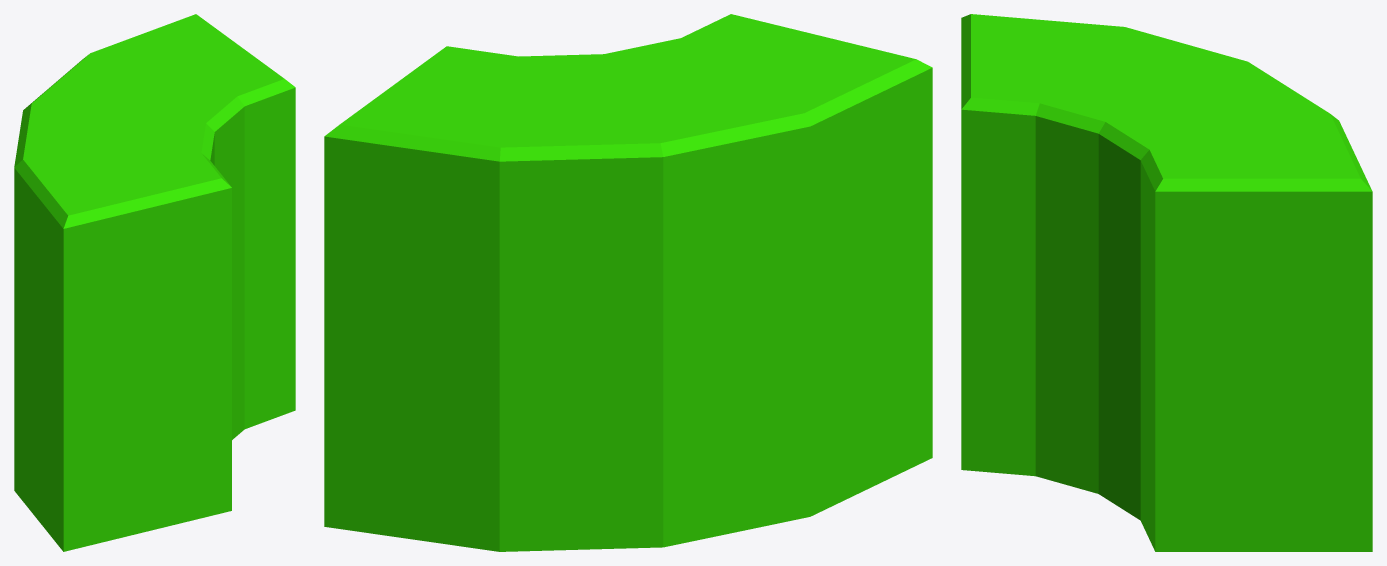
File: round_2x2_01.fbx
The picture shows the model from 3 angles, left to right: view 1: azimuth 30°, elevation 25°; view 2: azimuth 150°, elevation 25°; view 3: azimuth 270°, elevation 25°; orthographic projection. The views are drawn at different scales.
Visible parts, largest first — view 1: round_2x2_01; view 2: round_2x2_01; view 3: round_2x2_01.
Boxes of the visible parts, <box> form: round_2x2_01: <box>14,14,295,551</box>; round_2x2_01: <box>324,14,932,551</box>; round_2x2_01: <box>961,14,1372,551</box>.
Size of the model in its own units: 212 by 210 by 212.
